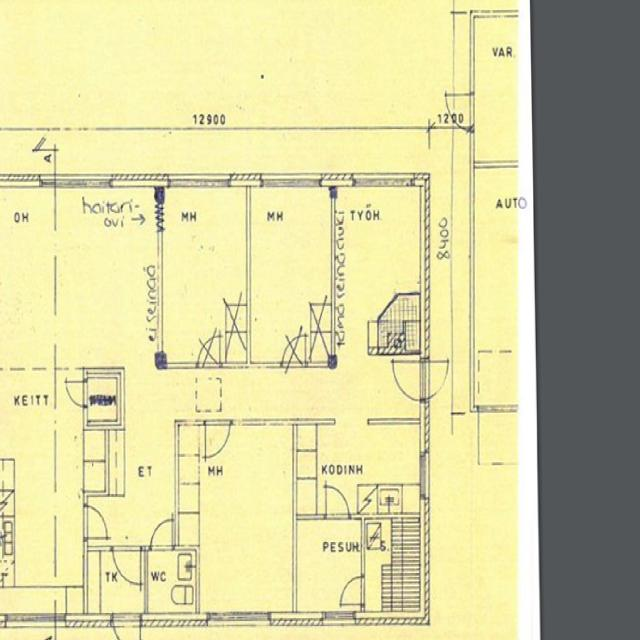door: (392, 361, 430, 398), (420, 361, 457, 398), (443, 93, 474, 130), (113, 545, 140, 587), (205, 418, 230, 457), (326, 482, 349, 518), (83, 506, 109, 537), (151, 516, 172, 550), (342, 576, 366, 602), (65, 381, 87, 406)
